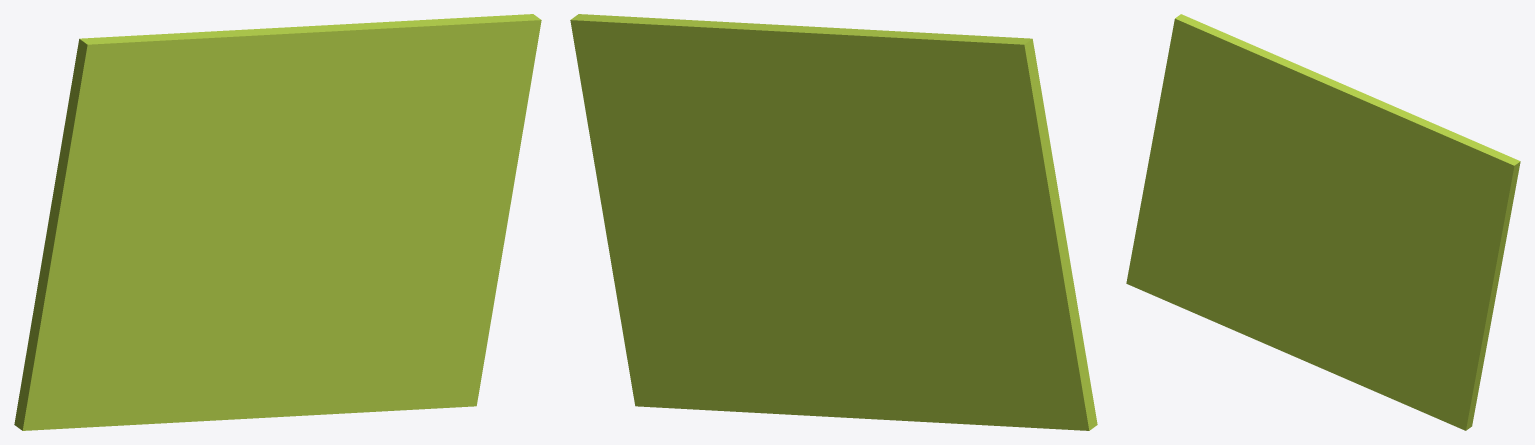
The picture shows the model from 3 angles, left to right: view 1: azimuth 30°, elevation 25°; view 2: azimuth 150°, elevation 25°; view 3: azimuth 330°, elevation 25°; orthographic projection. The views are drawn at different scales.
Visible parts, largest first — view 1: osm-way27917482-F2; view 2: osm-way27917482-F2; view 3: osm-way27917482-F2.
Boxes of the visible parts, <box> form: osm-way27917482-F2: <box>14,14,541,430</box>; osm-way27917482-F2: <box>570,14,1097,430</box>; osm-way27917482-F2: <box>1126,14,1520,430</box>.
Bounding box in the file's own units: 5.4 × 4.54 × 0.15.
